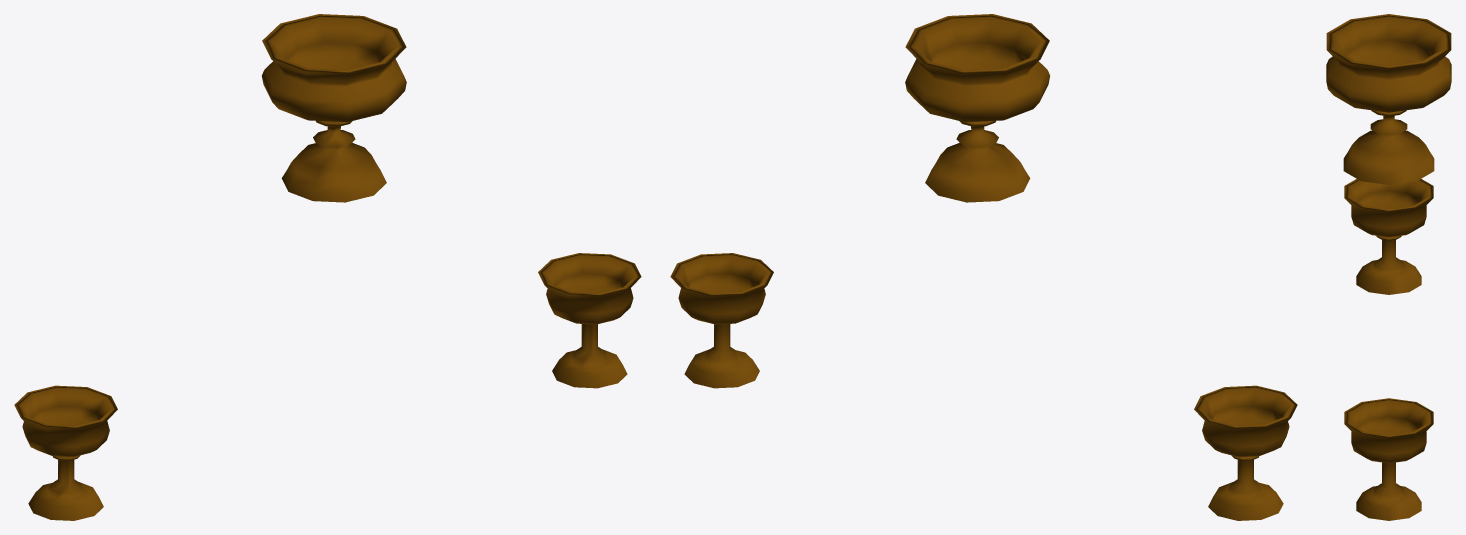
Rendered from CollectionsTrophies.fbx.
3 views of the same model, side by side, from view 1: azimuth 30°, elevation 25°; view 2: azimuth 150°, elevation 25°; view 3: azimuth 270°, elevation 25° (orthographic). The views are drawn at different scales.
Parts seen in each view (by area): view 1: GoldGoblet_geo, SilverGoblet_geo, BronzeGoblet_geo; view 2: GoldGoblet_geo, SilverGoblet_geo, BronzeGoblet_geo; view 3: GoldGoblet_geo, BronzeGoblet_geo, SilverGoblet_geo.
Part boxes in pixels (x1,y1,x2,y2): GoldGoblet_geo: [262, 14, 406, 202]; SilverGoblet_geo: [14, 385, 117, 520]; BronzeGoblet_geo: [538, 253, 641, 388]; GoldGoblet_geo: [905, 14, 1049, 202]; SilverGoblet_geo: [1194, 385, 1297, 520]; BronzeGoblet_geo: [670, 253, 773, 388]; GoldGoblet_geo: [1326, 14, 1451, 184]; BronzeGoblet_geo: [1344, 398, 1433, 520]; SilverGoblet_geo: [1344, 179, 1433, 294].
Bounding box in the file's own units: 3.61 × 2.22 × 0.7068.
